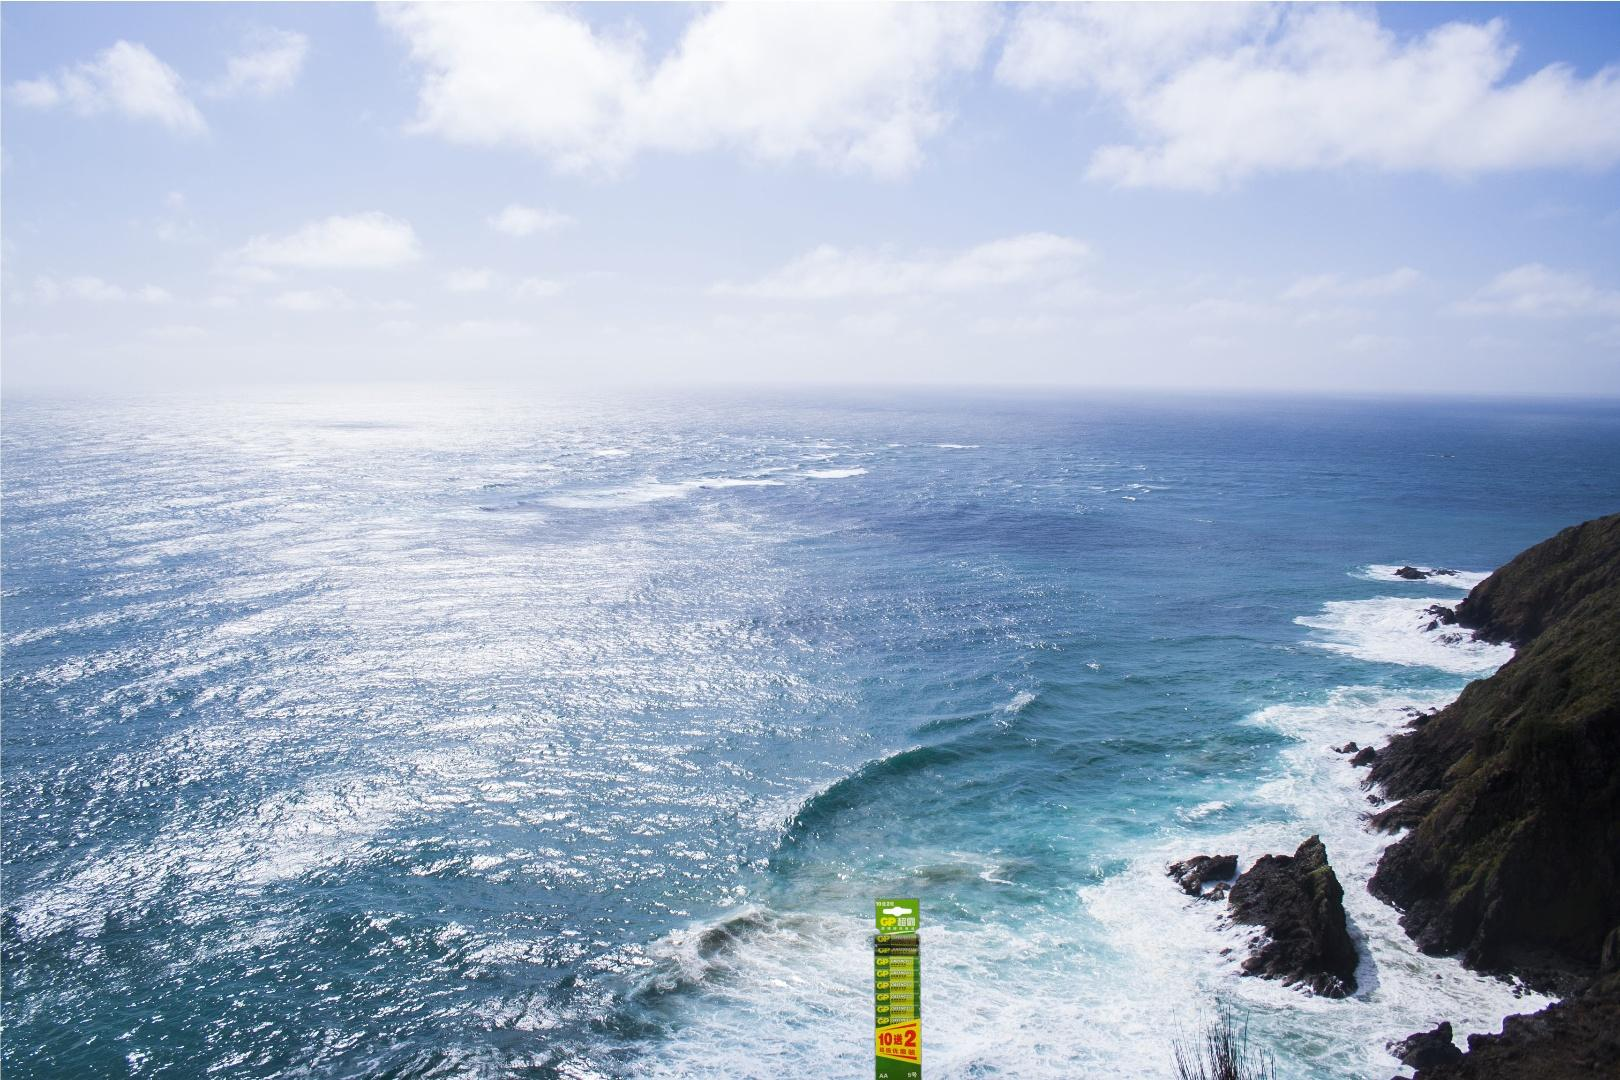battery: (871, 896, 925, 1080)
